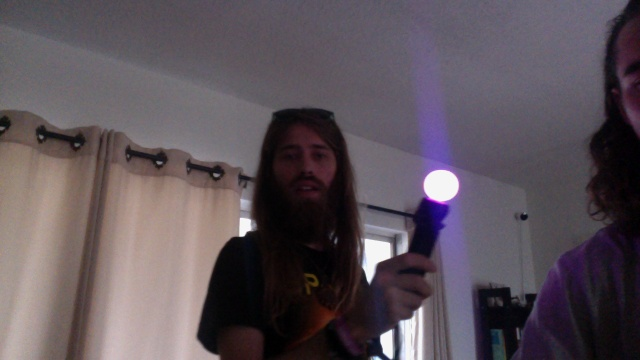wand: (424, 171, 459, 203)
